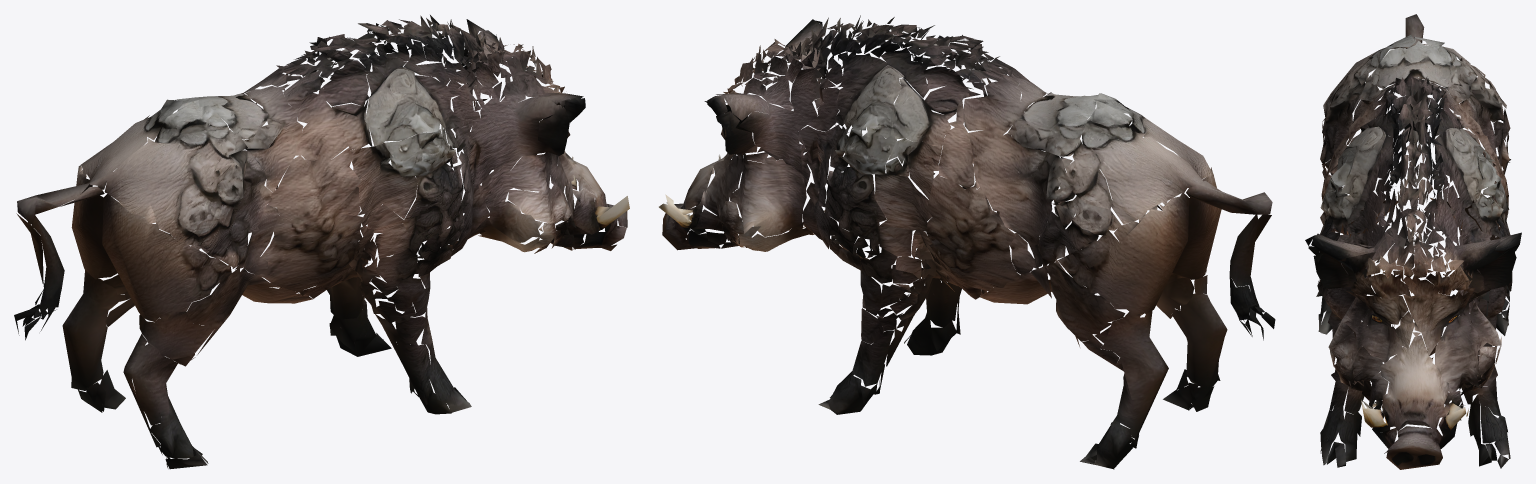
Rendered from RockBoarFar.glb.
The picture shows the model from 3 angles, left to right: view 1: azimuth 30°, elevation 25°; view 2: azimuth 150°, elevation 25°; view 3: azimuth 270°, elevation 25°; orthographic projection. The views are drawn at different scales.
Visible parts, largest first — view 1: tripo_node_28f57ff9-b978-468c-8c2a-6136e0a65ea1; view 2: tripo_node_28f57ff9-b978-468c-8c2a-6136e0a65ea1; view 3: tripo_node_28f57ff9-b978-468c-8c2a-6136e0a65ea1.
Part boxes in pixels (x1=…): tripo_node_28f57ff9-b978-468c-8c2a-6136e0a65ea1: x1=14, y1=15, x2=629, y2=469; tripo_node_28f57ff9-b978-468c-8c2a-6136e0a65ea1: x1=659, y1=15, x2=1275, y2=469; tripo_node_28f57ff9-b978-468c-8c2a-6136e0a65ea1: x1=1305, y1=14, x2=1521, y2=469.
Bounding box in the file's own units: 1 × 0.5717 × 0.3211.
1 material, 1 textured.
